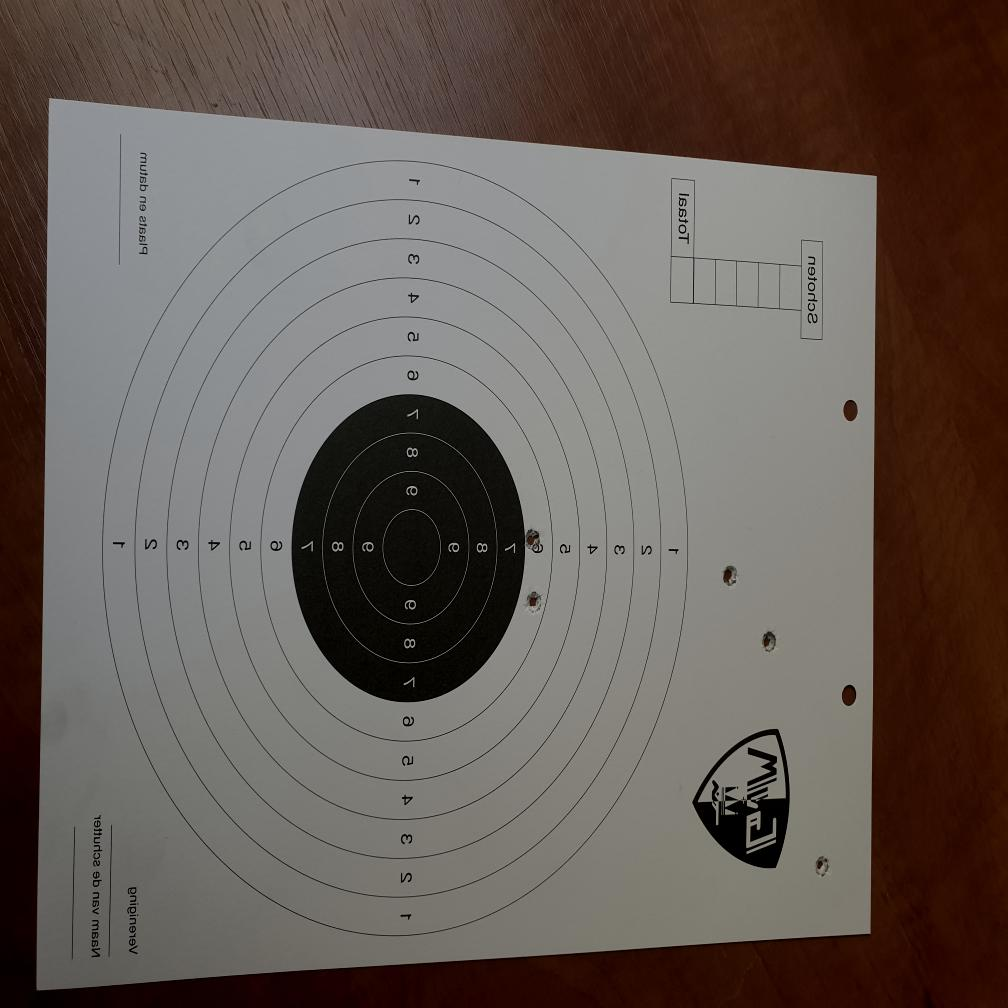0: (720, 563, 740, 590), (758, 626, 776, 656), (812, 854, 832, 877)
6: (520, 590, 548, 615), (524, 526, 545, 553)
Target: (100, 160, 688, 948)
black_contour: (290, 392, 526, 702)
